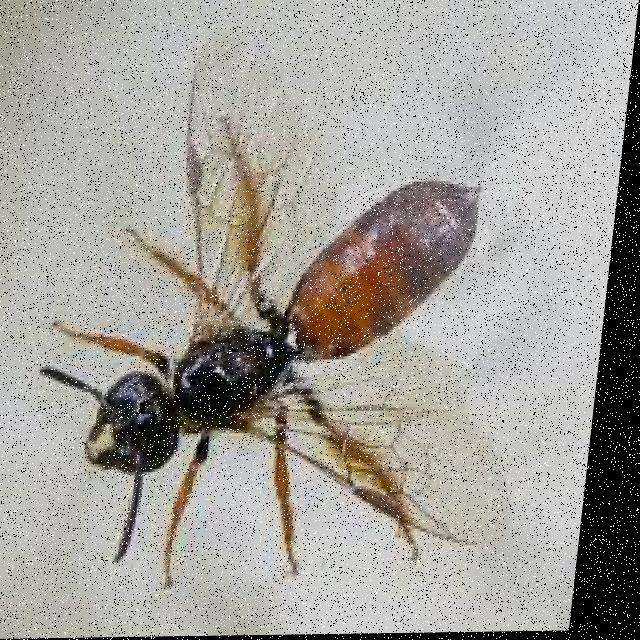Allodapula: (5, 24, 571, 622)
